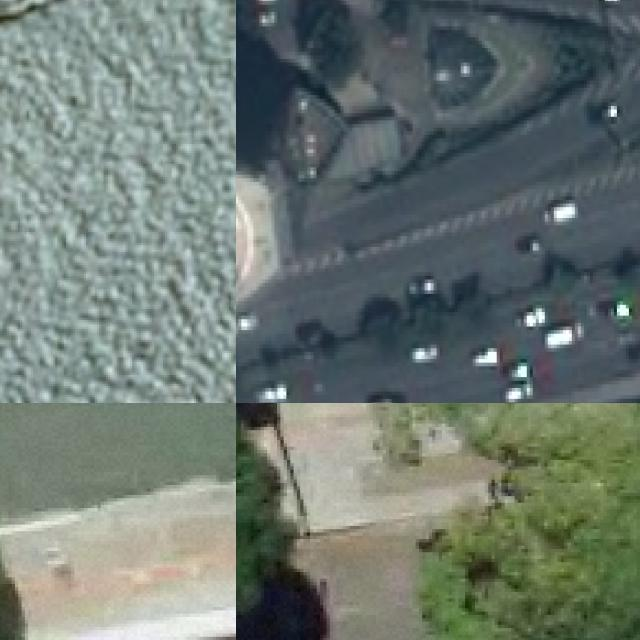trees: (417, 404, 640, 640), (237, 424, 291, 624)
